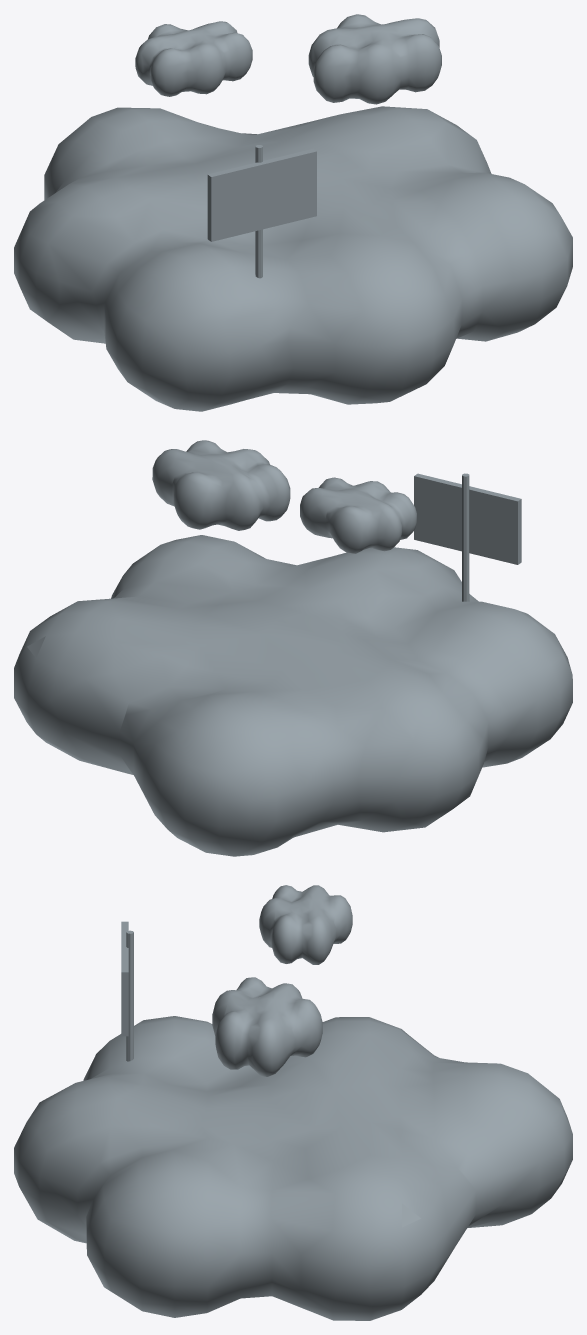
The model's file is StageModel5.fbx.
3 views of the same model, one above another, from view 1: azimuth 30°, elevation 25°; view 2: azimuth 150°, elevation 25°; view 3: azimuth 270°, elevation 25° (orthographic).
Parts seen in each view (by area): view 1: map5; view 2: map5; view 3: map5.
Part boxes in pixels (box(x1,y1,x2,y2)): map5: box(14, 14, 572, 411); map5: box(14, 440, 572, 856); map5: box(14, 885, 572, 1320).
Size of the model in its own units: 10.51 by 6.9 by 11.42.
